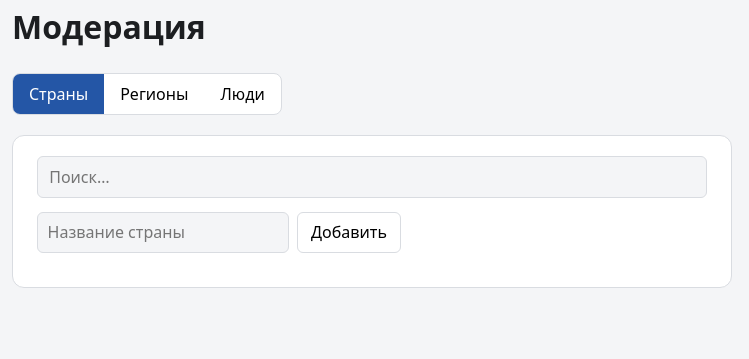
Moderation page › switches to the regions tab and loads regions
This screenshot has width=749, height=359.
Click the tab "Регионы" at (154, 94), box [104,74,204,114]
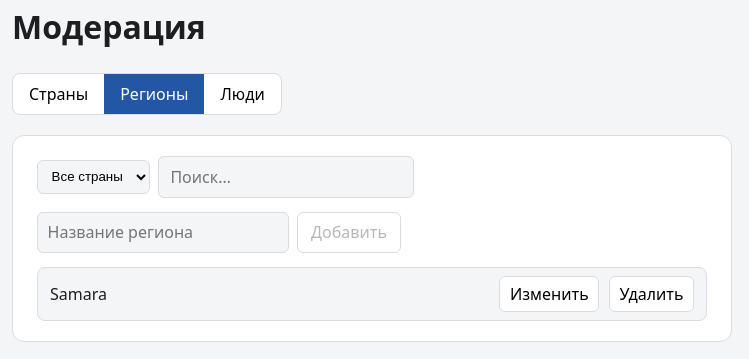
Now the text "Samara" is shown, box [50,283,107,305]
